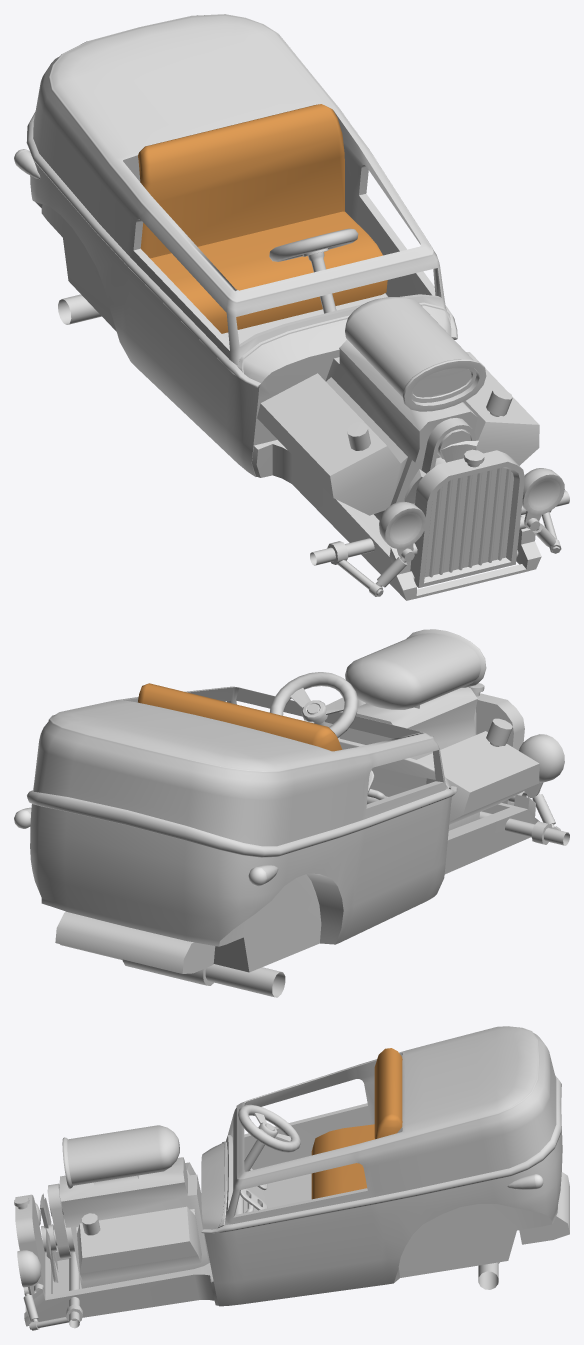
File: HotRod_Body.fbx
The picture shows the model from 3 angles, top to bottom: view 1: azimuth 30°, elevation 25°; view 2: azimuth 150°, elevation 25°; view 3: azimuth 270°, elevation 25°; orthographic projection. The views are drawn at different scales.
Visible parts, largest first — view 1: HotRod_Body, HotRod_HeadLights; view 2: HotRod_Body, HotRod_HeadLights, HotRod_Taillights; view 3: HotRod_Body, HotRod_HeadLights, HotRod_Taillights.
Boxes of the visible parts, x1=… form: HotRod_Body: x1=26, y1=14, x2=569, y2=600; HotRod_HeadLights: x1=379, y1=468, x2=564, y2=548; HotRod_Body: x1=27, y1=629, x2=569, y2=997; HotRod_HeadLights: x1=519, y1=734, x2=564, y2=782; HotRod_Taillights: x1=14, y1=807, x2=278, y2=886; HotRod_Body: x1=14, y1=1026, x2=569, y2=1330; HotRod_HeadLights: x1=17, y1=1202, x2=41, y2=1287; HotRod_Taillights: x1=507, y1=1174, x2=543, y2=1189.
Bounding box in the file's own units: 1.29 × 1.55 × 3.18.
